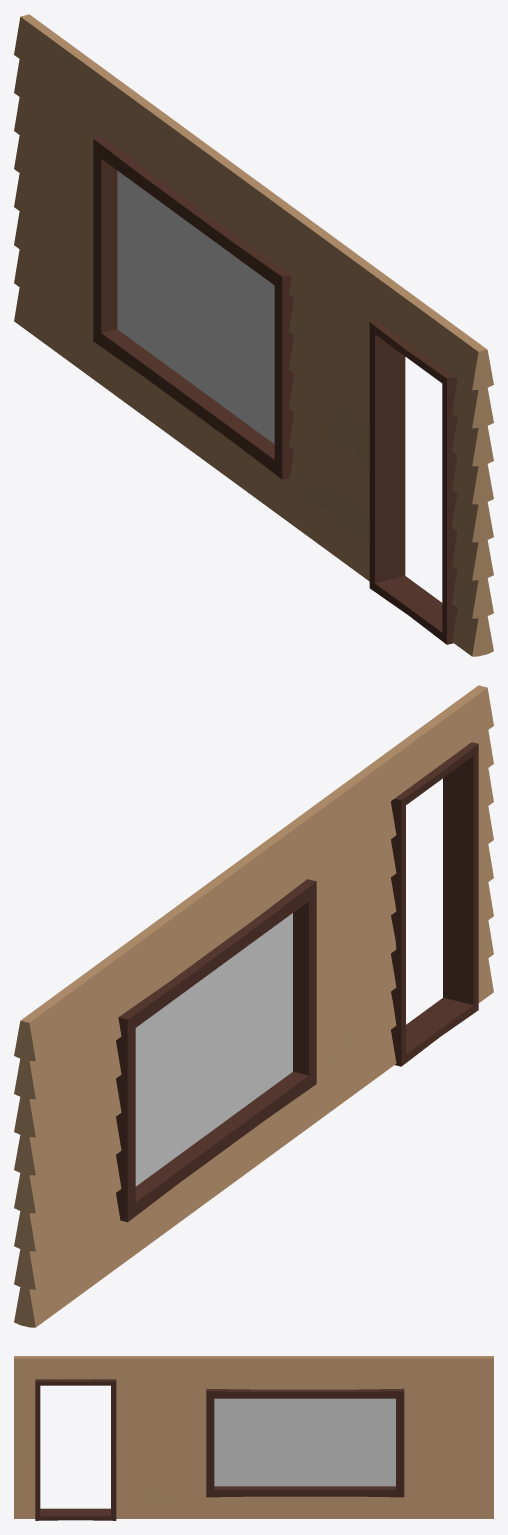
Rendered from Door and Window A-col.glb.
The picture shows the model from 3 angles, top to bottom: view 1: azimuth 30°, elevation 25°; view 2: azimuth 150°, elevation 25°; view 3: azimuth 270°, elevation 25°; orthographic projection. The views are drawn at different scales.
Parts seen in each view (by area): view 1: Door and Window A-col.001; view 2: Door and Window A-col.001; view 3: Door and Window A-col.001.
Part boxes in pixels (x1,y1,x2,y2): Door and Window A-col.001: (14, 14, 493, 656); Door and Window A-col.001: (14, 685, 493, 1327); Door and Window A-col.001: (14, 1356, 493, 1520).
Size of the model in its own units: 0.2595 by 2.2 by 6.
